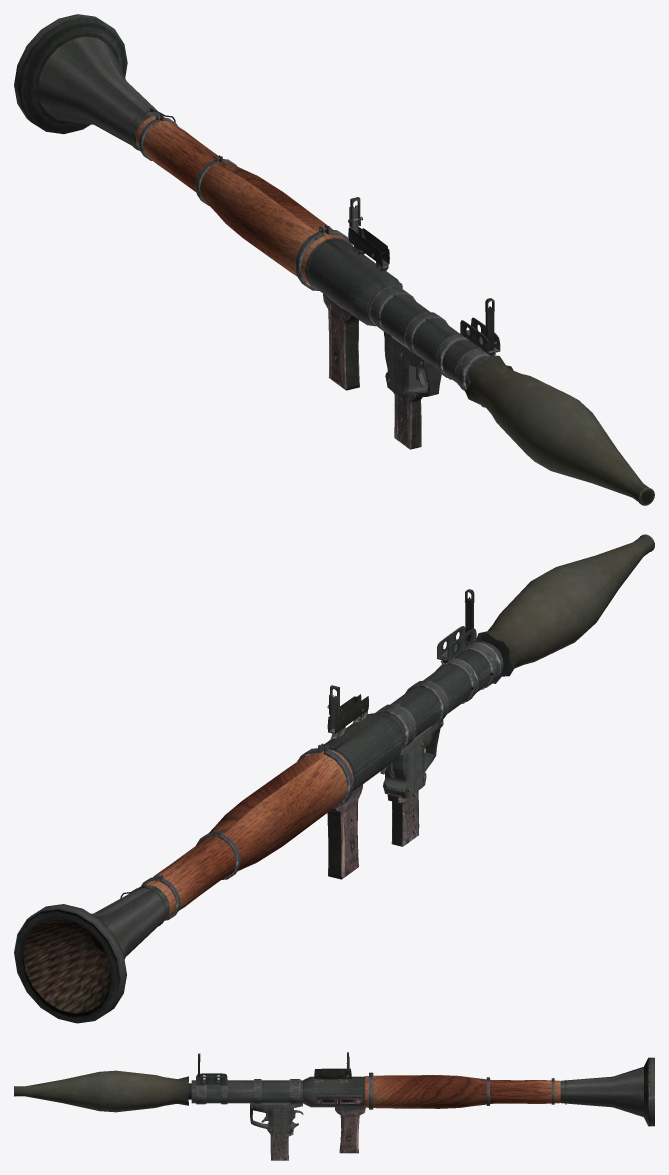
File: Rpg8.FBX
The picture shows the model from 3 angles, top to bottom: view 1: azimuth 30°, elevation 25°; view 2: azimuth 150°, elevation 25°; view 3: azimuth 270°, elevation 25°; orthographic projection. The views are drawn at different scales.
Parts seen in each view (by area): view 1: Rpg 7 (3dislands.blogspot.com) TDG Soft Sri lanka, rpg 7 bullet; view 2: Rpg 7 (3dislands.blogspot.com) TDG Soft Sri lanka, rpg 7 bullet; view 3: Rpg 7 (3dislands.blogspot.com) TDG Soft Sri lanka, rpg 7 bullet.
Boxes of the visible parts, x1,y1,x2,y2 form: Rpg 7 (3dislands.blogspot.com) TDG Soft Sri lanka: (14, 14, 500, 449); rpg 7 bullet: (465, 355, 654, 505); Rpg 7 (3dislands.blogspot.com) TDG Soft Sri lanka: (14, 589, 503, 1023); rpg 7 bullet: (475, 534, 654, 683); Rpg 7 (3dislands.blogspot.com) TDG Soft Sri lanka: (191, 1052, 654, 1160); rpg 7 bullet: (14, 1070, 191, 1112).
Size of the model in its own units: 0.00293 by 0.00505 by 0.0271.
